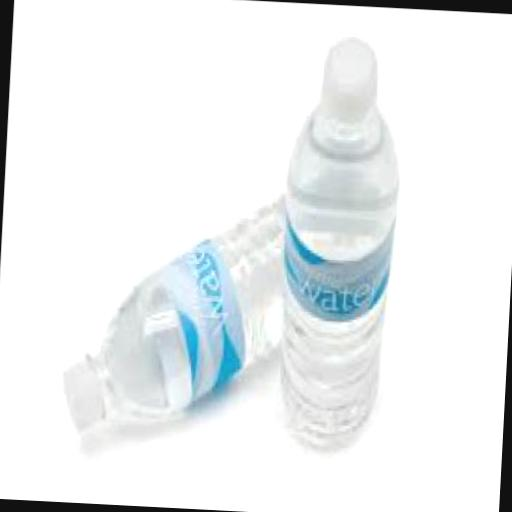plastic: (56, 176, 286, 438), (267, 30, 403, 448), (314, 33, 376, 132), (56, 348, 107, 429)
